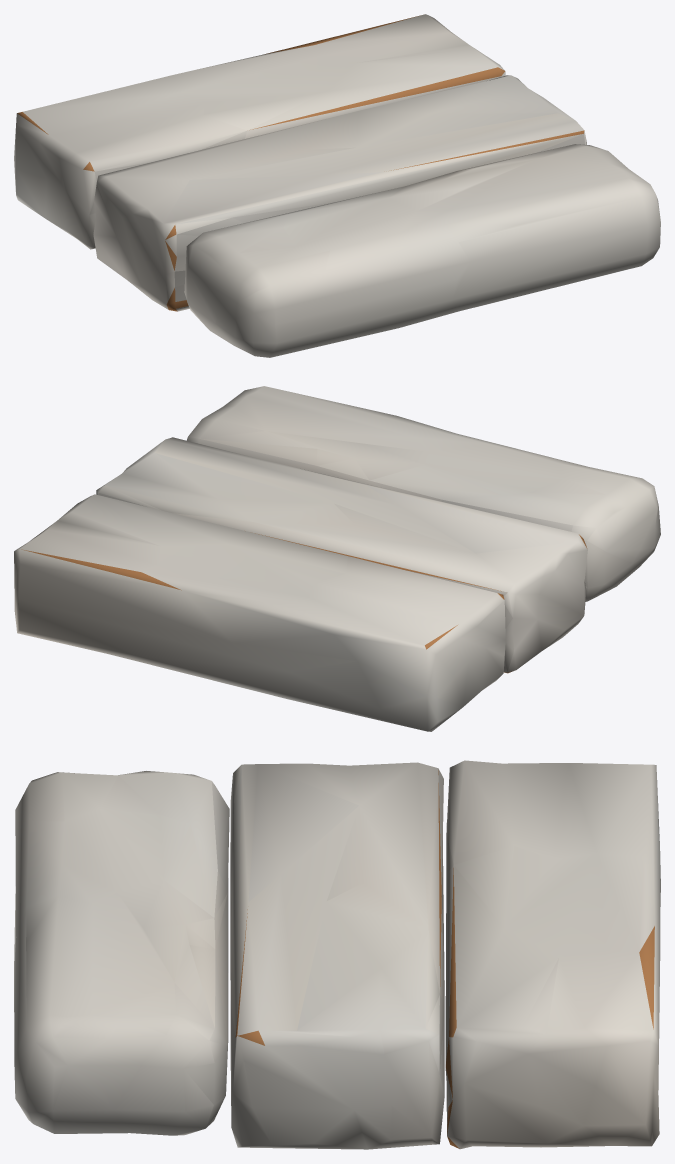
The model's file is frost_sill_ledge_lod2.glb.
The picture shows the model from 3 angles, top to bottom: view 1: azimuth 30°, elevation 25°; view 2: azimuth 150°, elevation 25°; view 3: azimuth 270°, elevation 25°; orthographic projection. The views are drawn at different scales.
Parts seen in each view (by area): view 1: frost_sill_ledge.001; view 2: frost_sill_ledge.001; view 3: frost_sill_ledge.001.
Boxes of the visible parts, x1=… form: frost_sill_ledge.001: x1=14, y1=14, x2=660, y2=357; frost_sill_ledge.001: x1=14, y1=386, x2=660, y2=731; frost_sill_ledge.001: x1=14, y1=760, x2=660, y2=1149.
Size of the model in its own units: 20.15 by 4.27 by 19.98.
